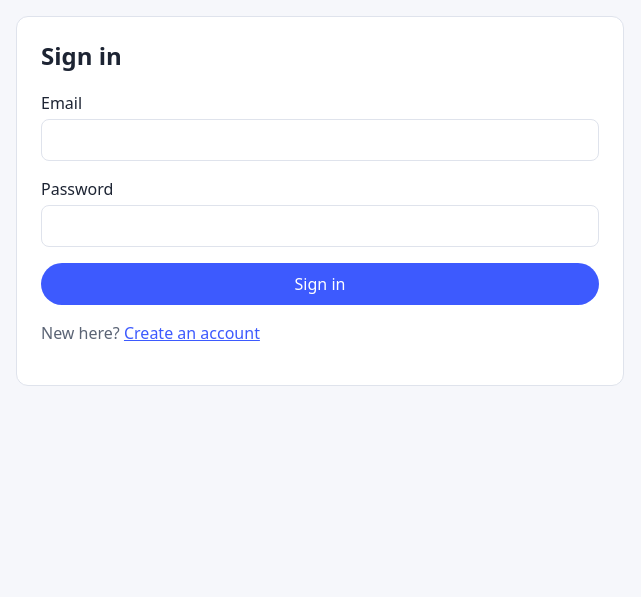
Test: App auth gate › creates an account with the age confirmation
Click the button "Create an account": (192, 333) [124, 321, 260, 345]
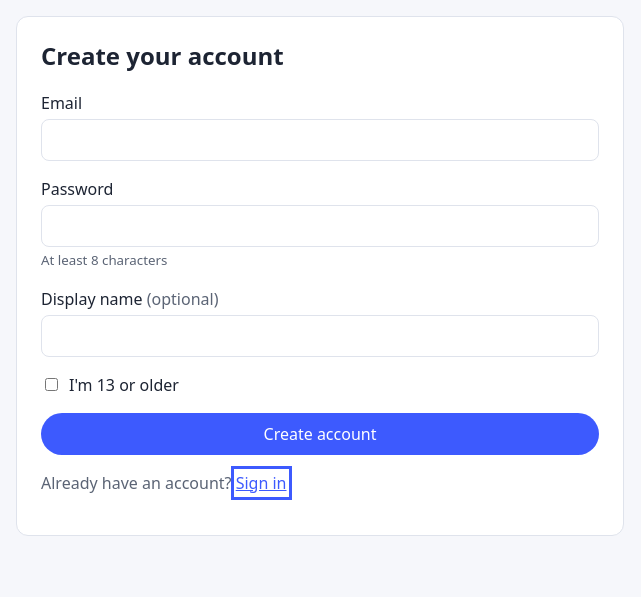
Result: the heading "Create your account" is shown at [41, 39, 284, 72]
In the field labelled "Email": (320, 140) [41, 119, 599, 161], type "player@example.com"
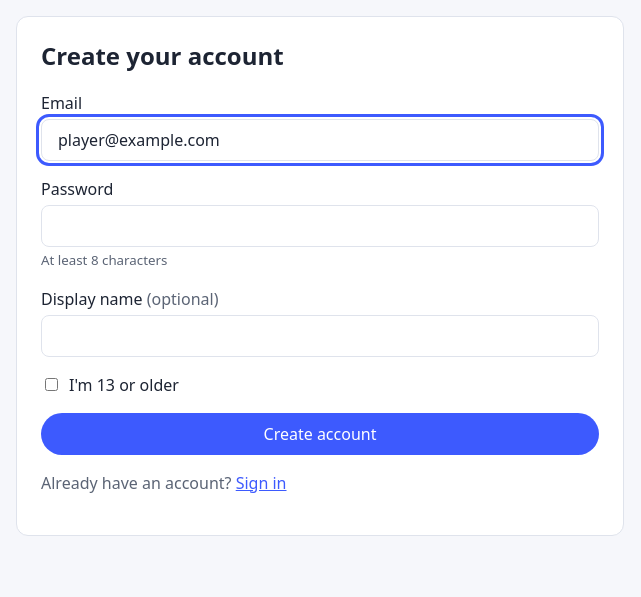
In the password field labelled "Password": (320, 226) [41, 205, 599, 247], type "correct horse"
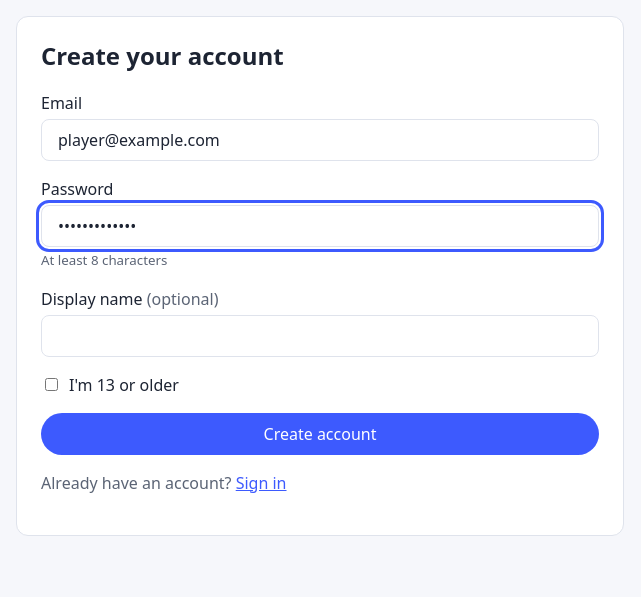
In the field labelled "Display name (optional)": (320, 336) [41, 315, 599, 357], type "Player"
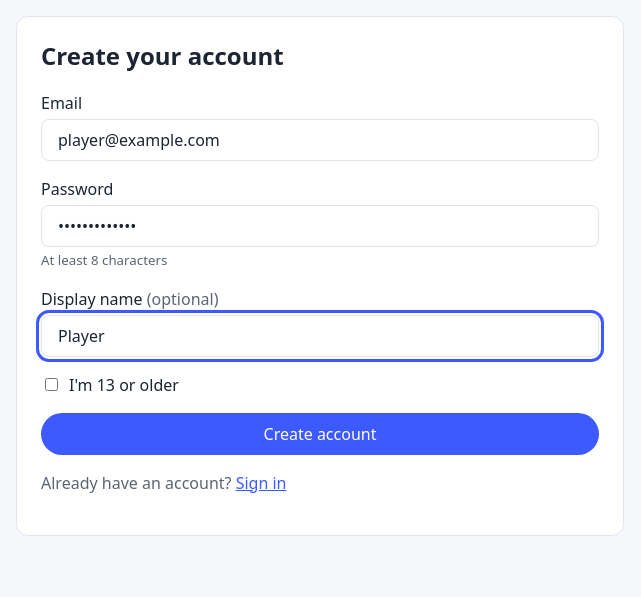
Click the checkbox labelled "I'm 13 or older": (52, 385) [45, 378, 58, 391]
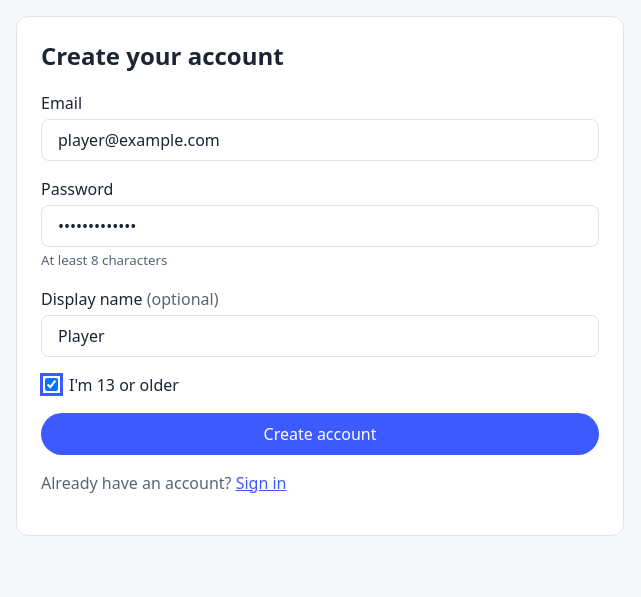
Click the button "Create account": (320, 434) [41, 413, 599, 455]
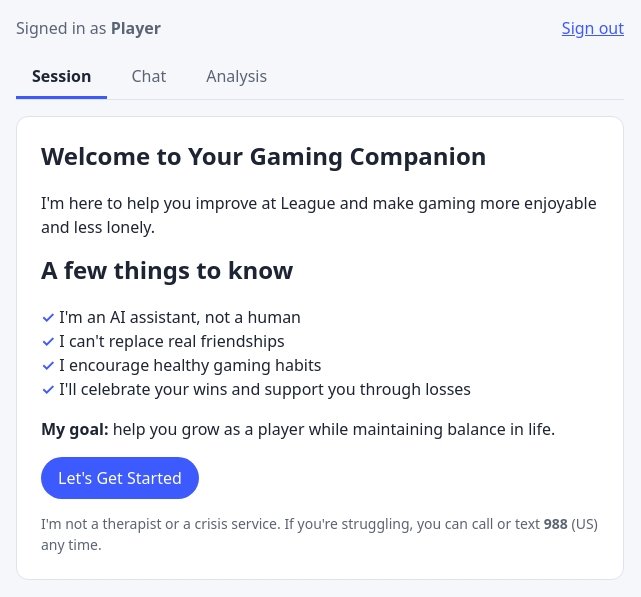
Result: the text "Player" is shown at [111, 17, 161, 39]
